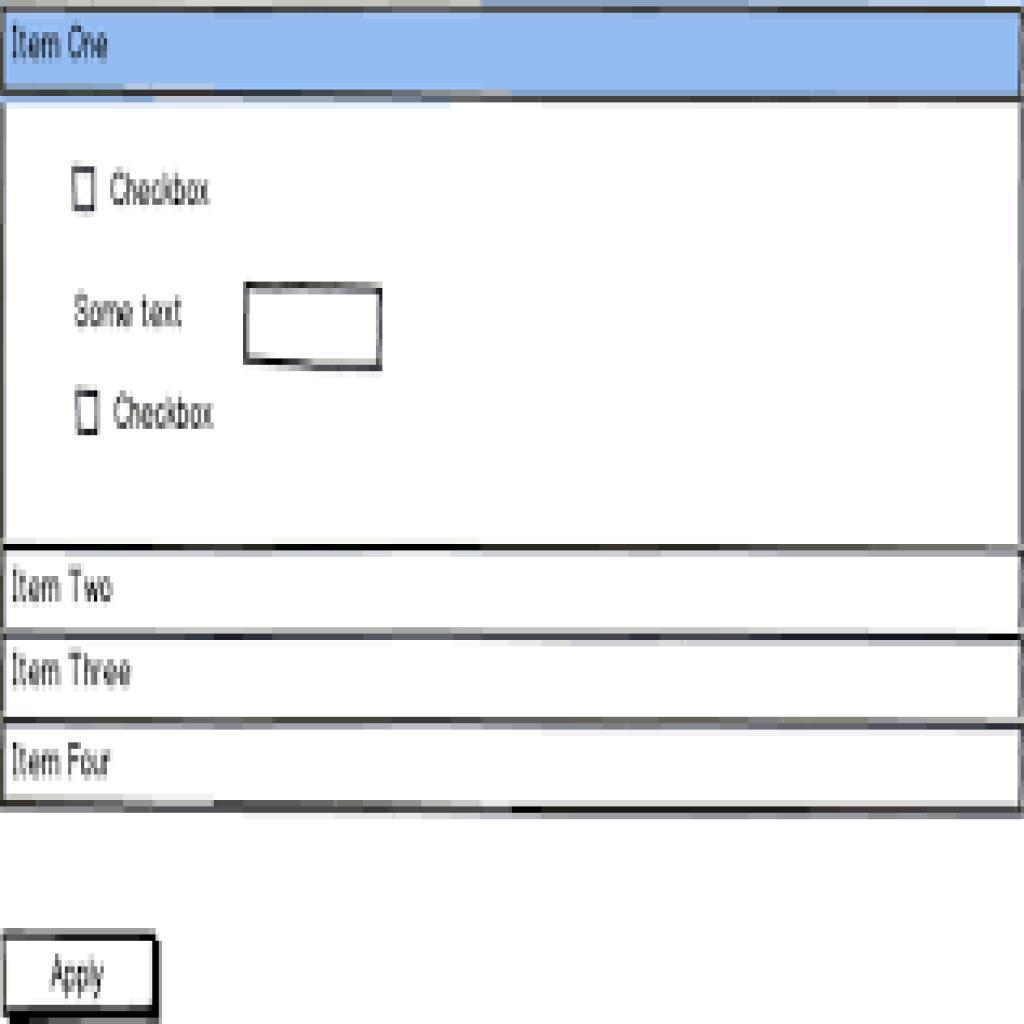button: (4, 932, 158, 1014)
checkbox: (72, 165, 101, 215), (74, 390, 102, 435)
input: (243, 283, 388, 373)
label: (67, 290, 194, 341), (110, 161, 216, 210), (115, 392, 117, 394)
